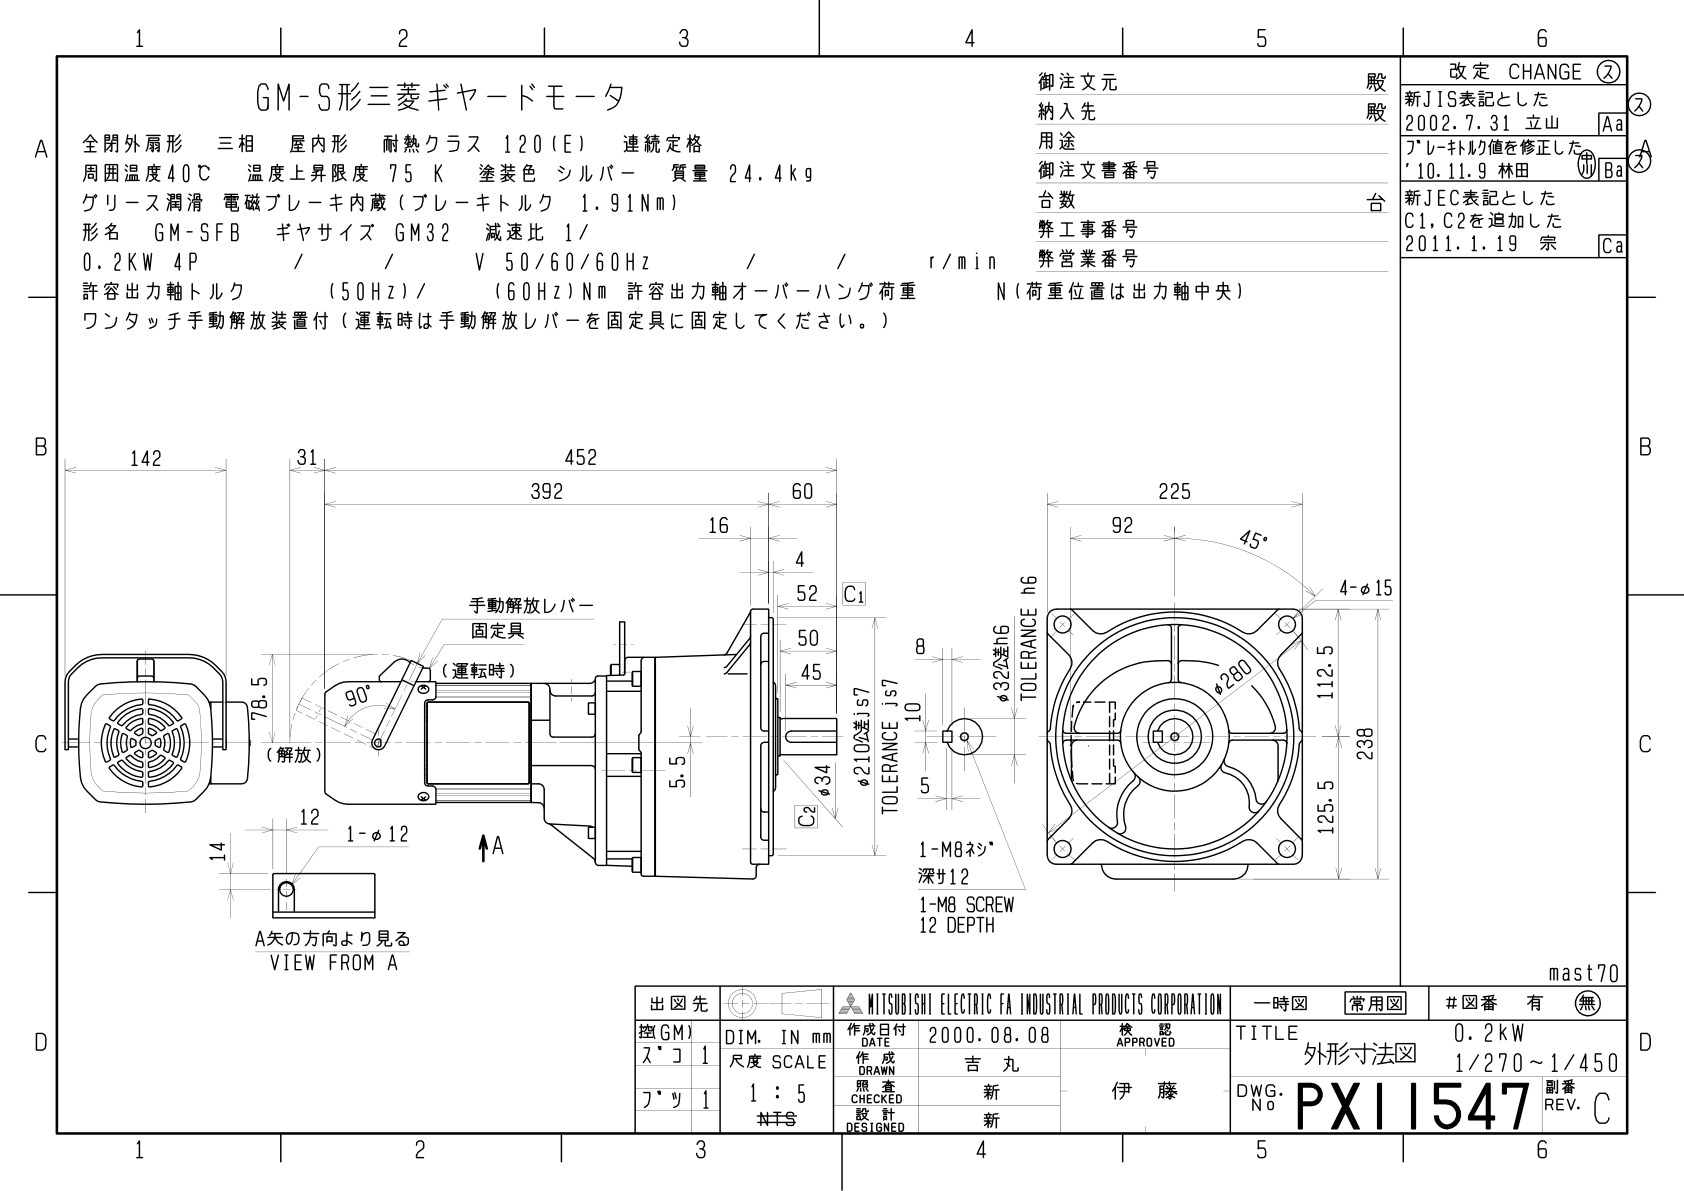GM_S_手動ブレーキ＿三相_フランジ: (58, 400, 1401, 982)
